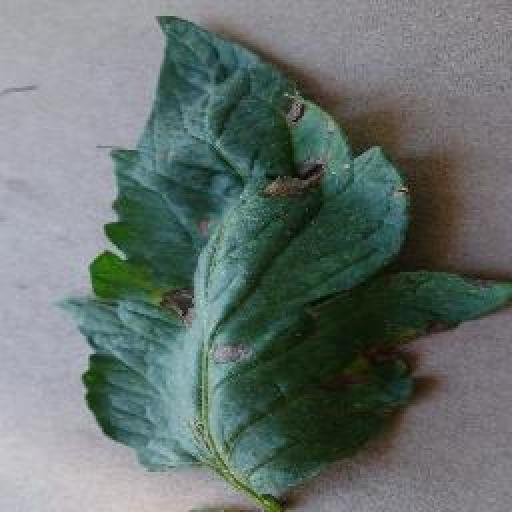Early Blight: (64, 13, 512, 512)
